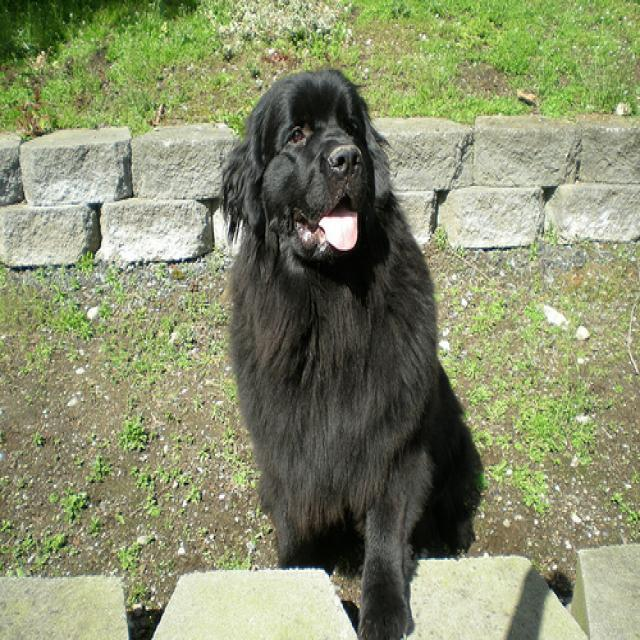dog-newfoundland: (216, 55, 494, 637)
